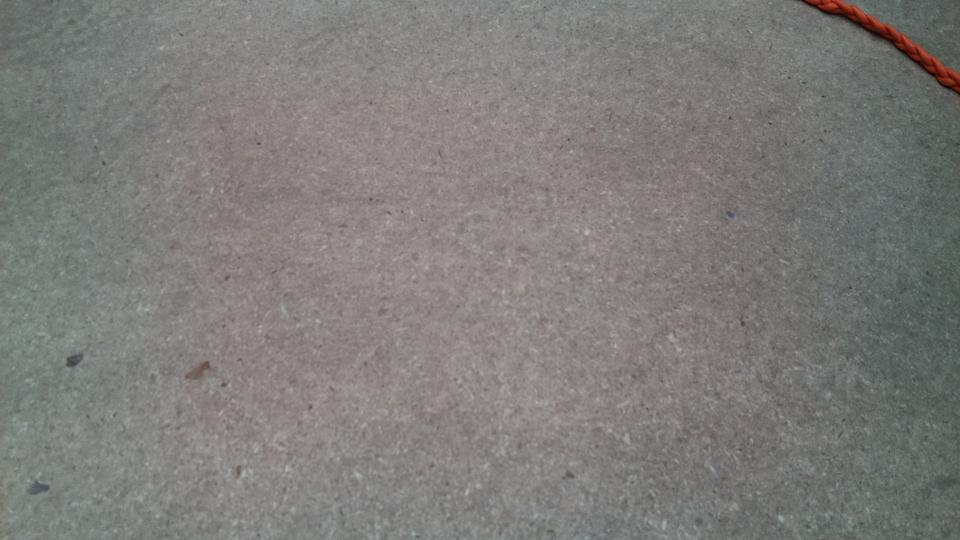rope: (811, 1, 960, 84)
